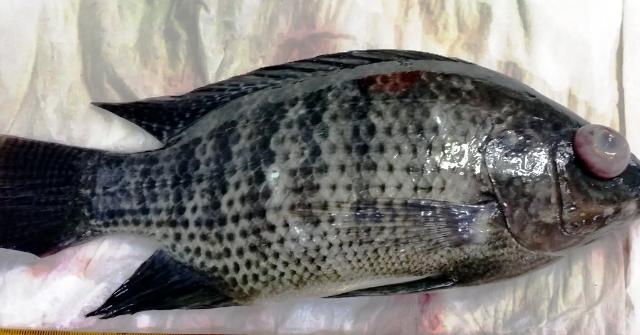Streptococcus: (0, 50, 639, 320)
